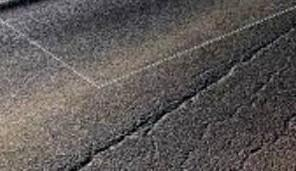crack: (49, 19, 296, 171), (175, 50, 296, 171), (232, 110, 296, 171)
